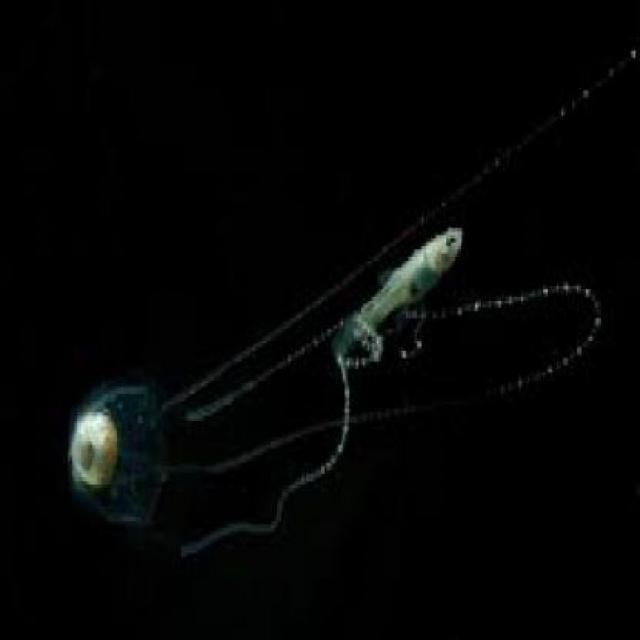Jellyfish: (56, 307, 396, 564)
